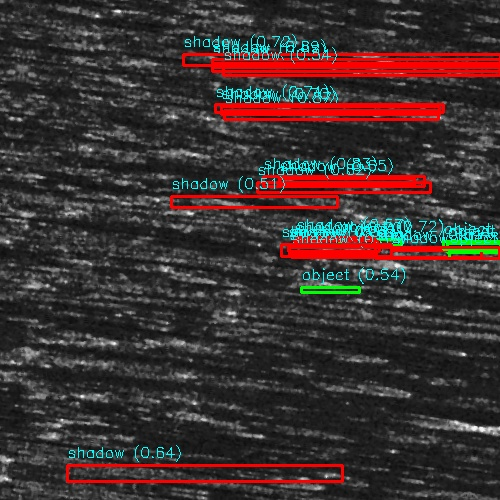rock: (116, 459, 199, 484), (52, 365, 187, 376), (138, 32, 253, 43), (116, 196, 199, 203), (327, 155, 390, 162), (121, 336, 184, 343), (94, 241, 157, 246), (28, 109, 91, 114), (61, 179, 102, 184), (83, 277, 124, 282), (2, 248, 43, 253)
shadow: (158, 459, 428, 484), (120, 365, 386, 376), (0, 65, 273, 74), (60, 109, 280, 114), (158, 196, 309, 203), (359, 155, 500, 162), (196, 32, 274, 43), (82, 179, 228, 184), (153, 336, 239, 343), (104, 277, 182, 282), (126, 241, 202, 246), (23, 248, 98, 253)
